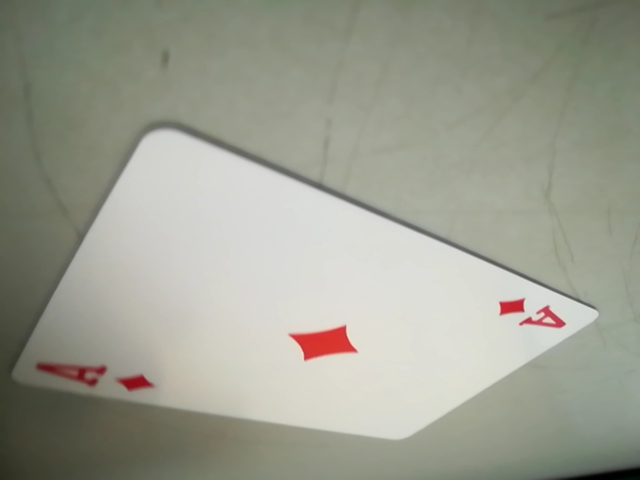fk a: (14, 357, 162, 396), (494, 291, 575, 340)
